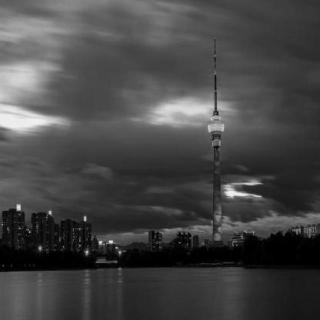other: (207, 259, 237, 315), (209, 86, 225, 142), (7, 272, 27, 314), (42, 268, 58, 312), (80, 270, 94, 320), (13, 191, 21, 211), (82, 246, 94, 258), (82, 211, 90, 224), (46, 208, 53, 215)
